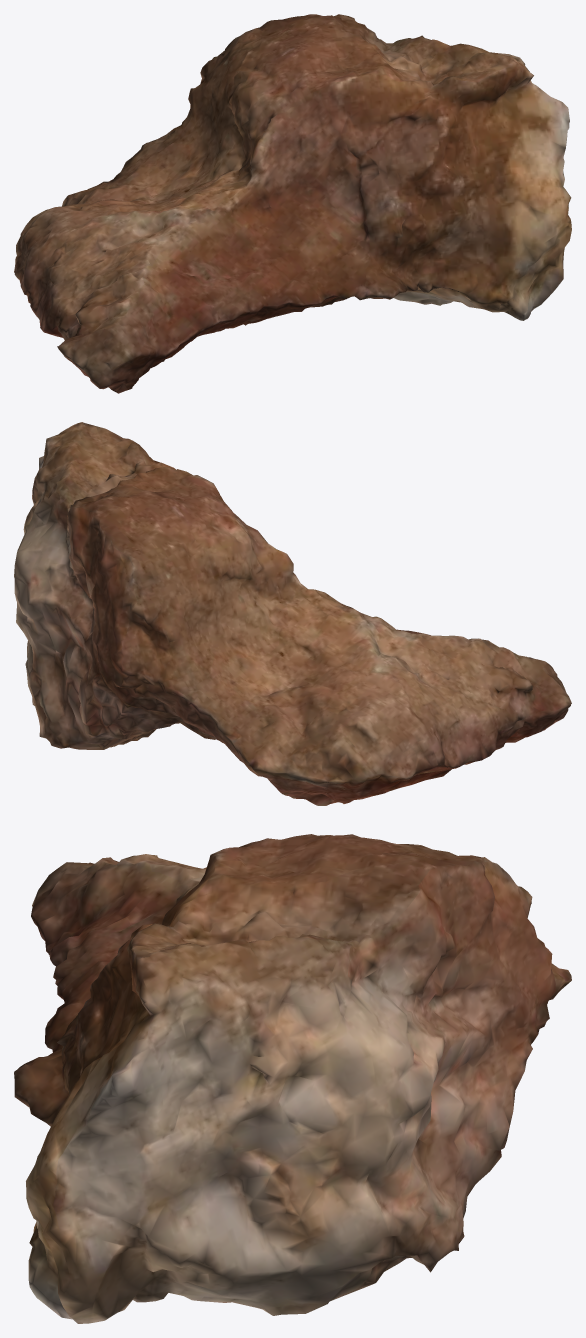
File: stone_01.glb
3 renders of one model, top to bottom at view 1: azimuth 30°, elevation 25°; view 2: azimuth 150°, elevation 25°; view 3: azimuth 270°, elevation 25°, orthographic. The views are drawn at different scales.
Visible parts, largest first — view 1: stone_01; view 2: stone_01; view 3: stone_01.
Part boxes in pixels (box(x1,y1,x2,y2)): stone_01: box(14, 14, 571, 393); stone_01: box(14, 422, 571, 805); stone_01: box(14, 834, 571, 1323).
Size of the model in its own units: 0.1469 by 0.0718 by 0.089.
1 material, 1 textured.
